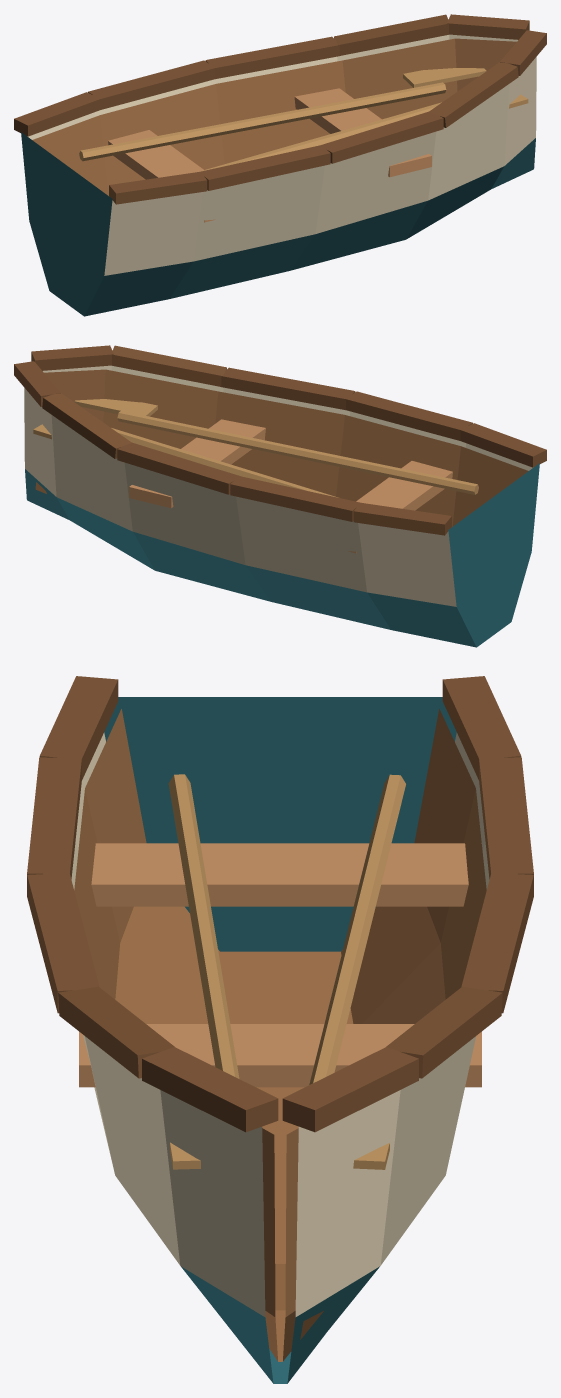
Rendered from boat.glb.
The picture shows the model from 3 angles, top to bottom: view 1: azimuth 30°, elevation 25°; view 2: azimuth 150°, elevation 25°; view 3: azimuth 270°, elevation 25°; orthographic projection. The views are drawn at different scales.
Visible parts, largest first — view 1: boat; view 2: boat; view 3: boat.
Part boxes in pixels (box(x1,y1,x2,y2)): boat: box(14, 14, 546, 316); boat: box(14, 345, 546, 647); boat: box(27, 676, 533, 1383).
Bounding box in the file's own units: 1.79 × 0.585 × 0.8299.
